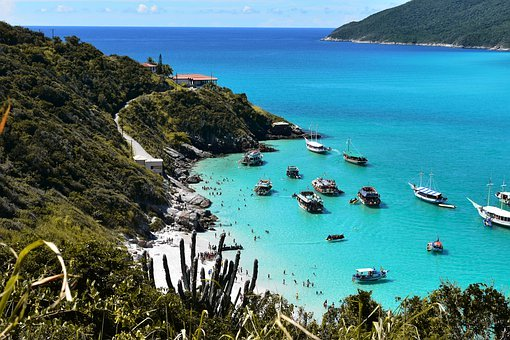mountain: (5, 29, 226, 334)
sea: (98, 31, 510, 302)
